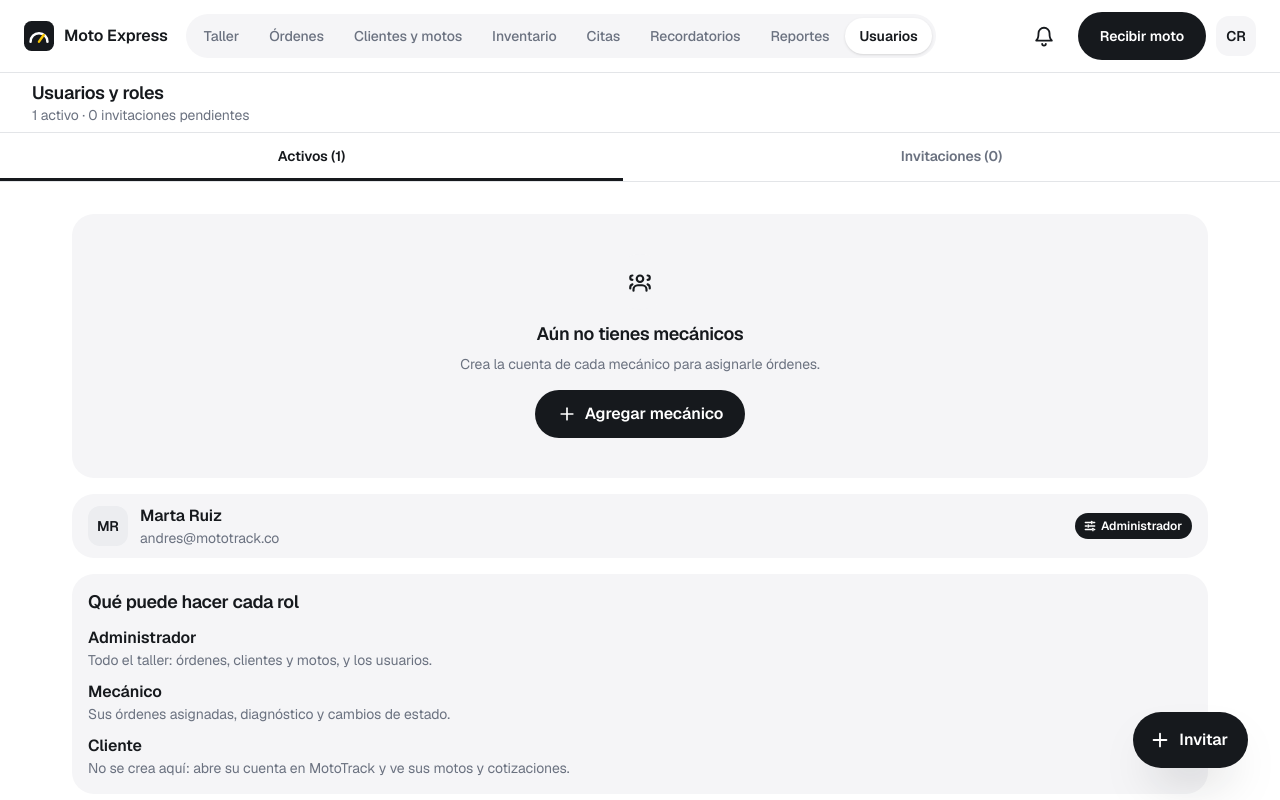
Test: HU-87 · Corregir datos y rol de alguien del equipo › si el taller quedaría sin admin, el error se ve bajo el rol
What coordinates should you click on to do the following:
click the button with aria-label "Opciones de Marta Ruiz"
I would click on:
 (108, 526)
Its box is x1=72 y1=494 x2=1208 y2=558.
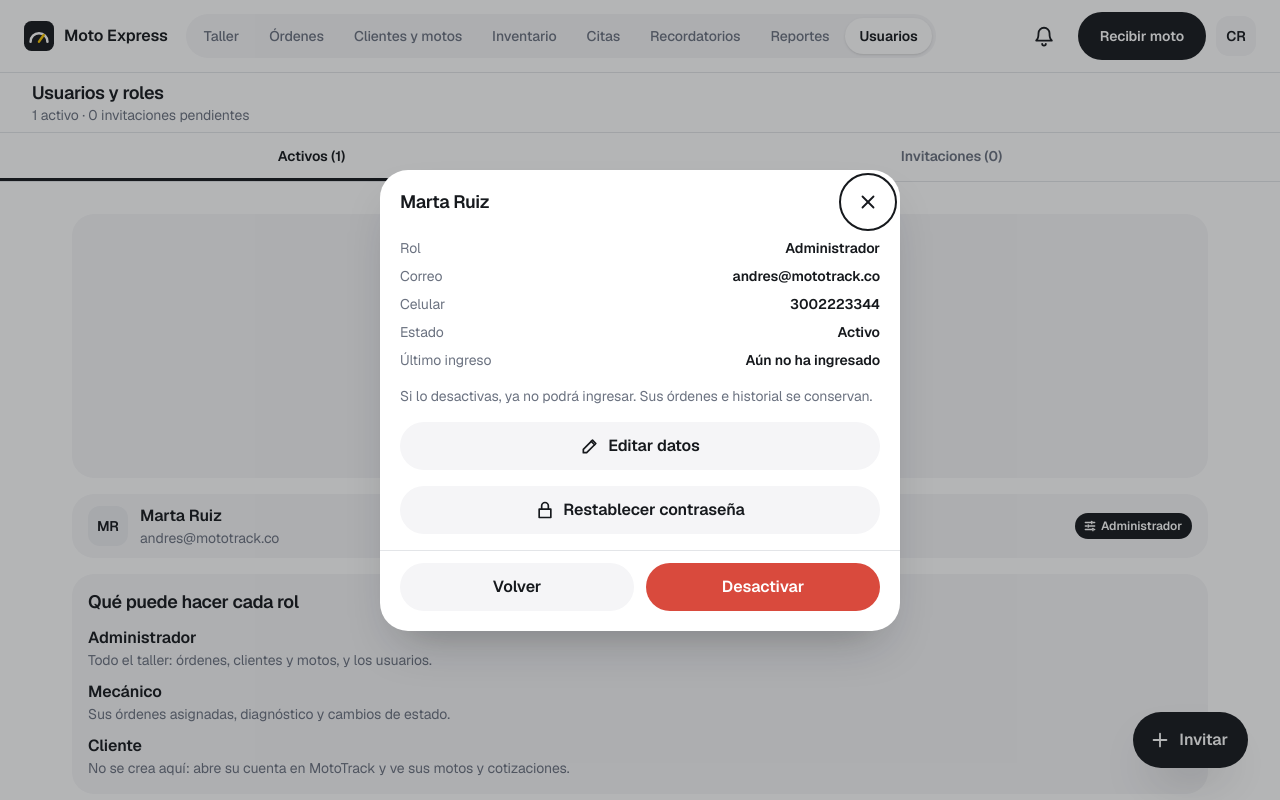
What coordinates should you click on to do the following:
click the button "Editar datos"
I would click on:
 (640, 446)
Its box is x1=400 y1=422 x2=880 y2=470.
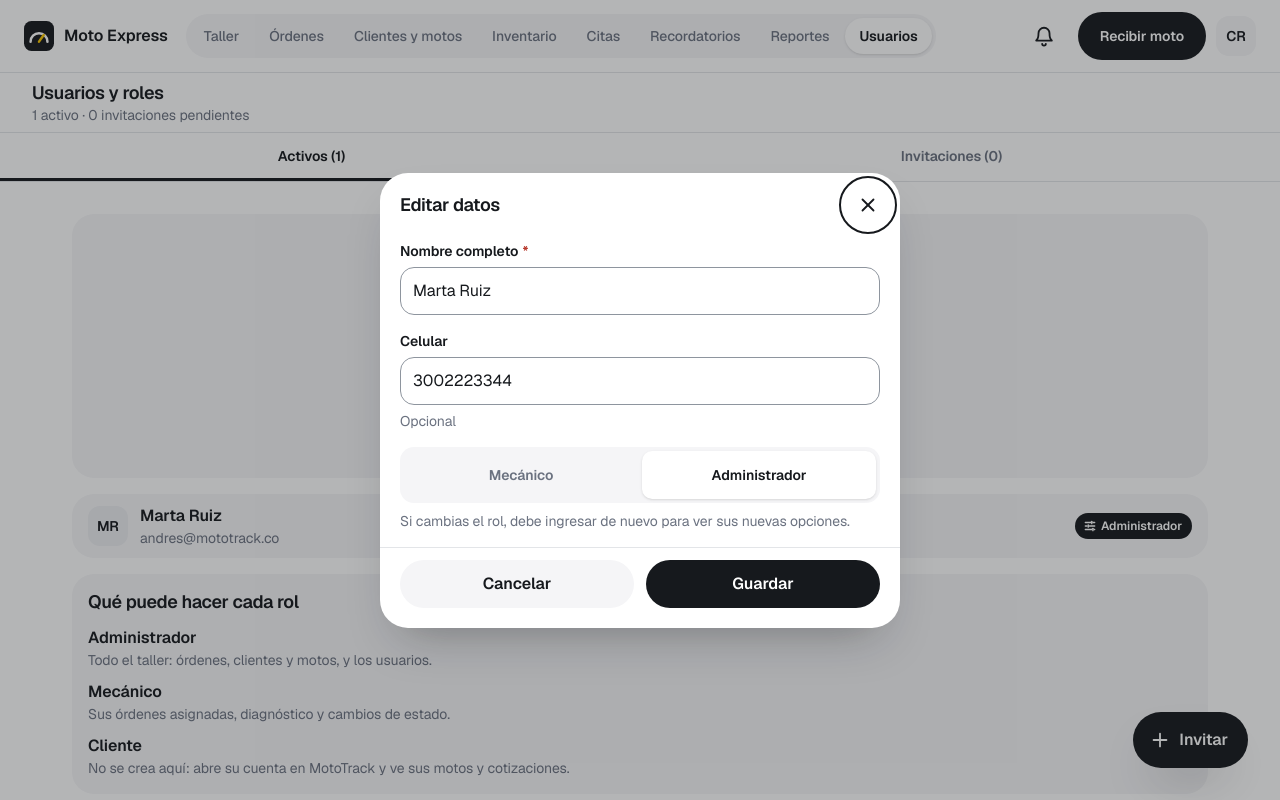
What coordinates should you click on to do the following:
click the tab "Mecánico"
I would click on:
 (521, 474)
Its box is x1=404 y1=450 x2=638 y2=498.
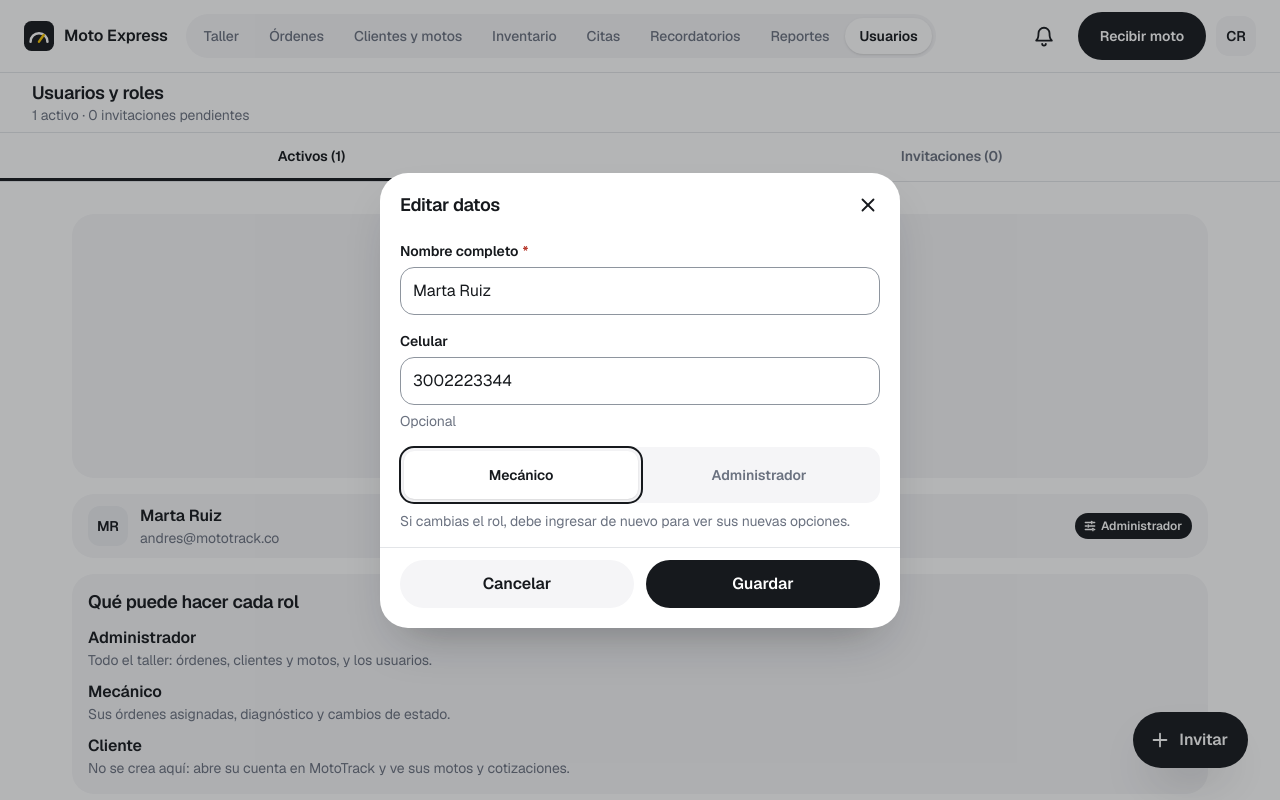
What coordinates should you click on to do the following:
click the button "Guardar"
I would click on:
 (763, 584)
Its box is x1=646 y1=560 x2=880 y2=608.
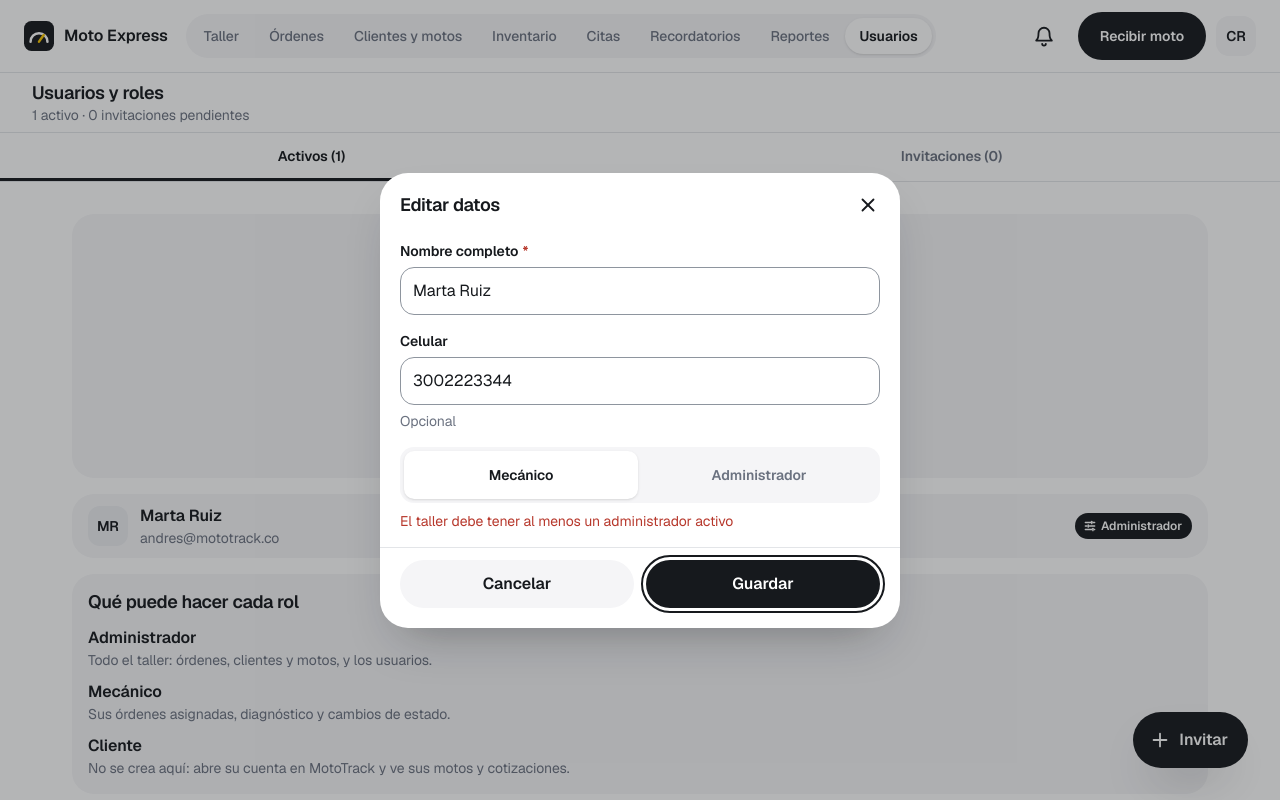
Expected: the text "El taller debe tener al menos un administrador activo" is shown, x1=400 y1=512 x2=733 y2=530
